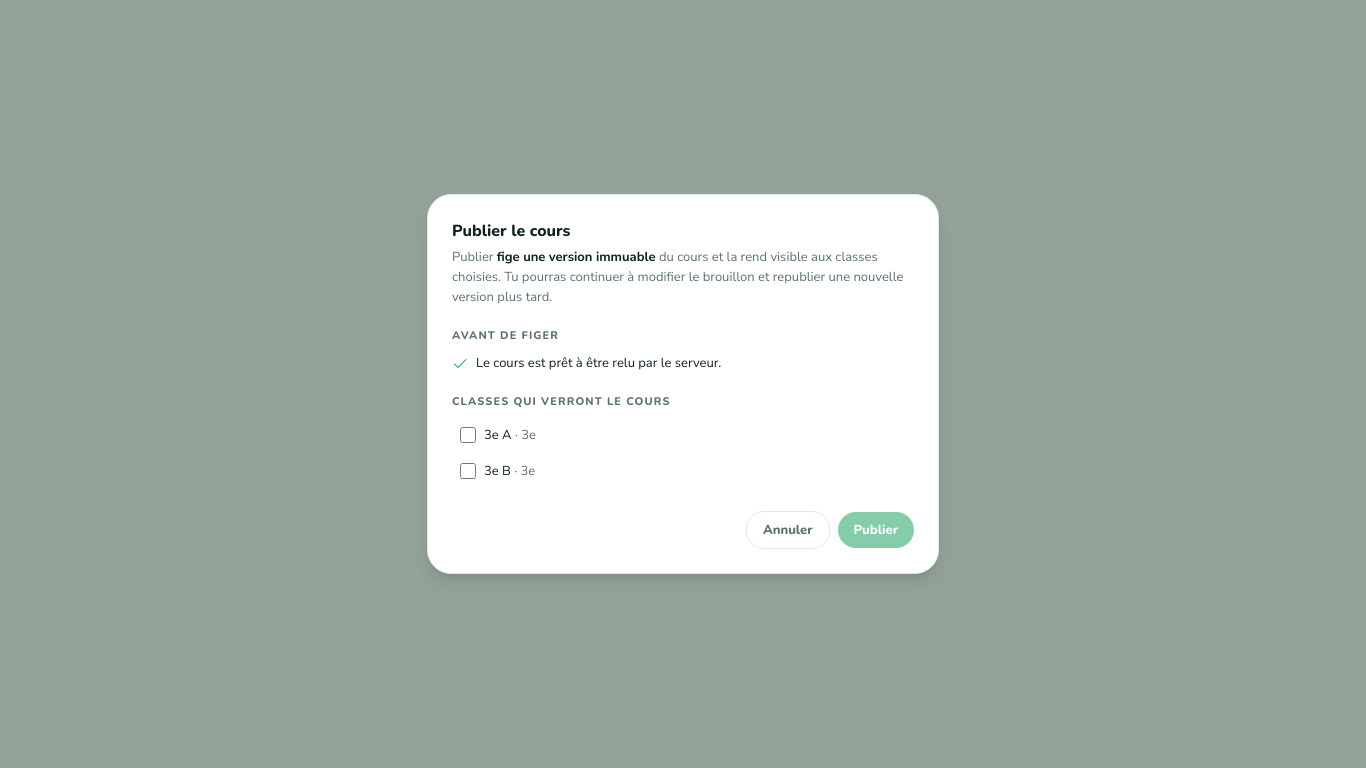
Test: PublierCours › enregistre, définit les portées, publie, puis confirme la version figée
The image size is (1366, 768).
What coordinates should you click on to do the following:
click the checkbox labelled "3e A · 3e"
I would click on:
 (468, 435)
Its box is [460,427,476,443].
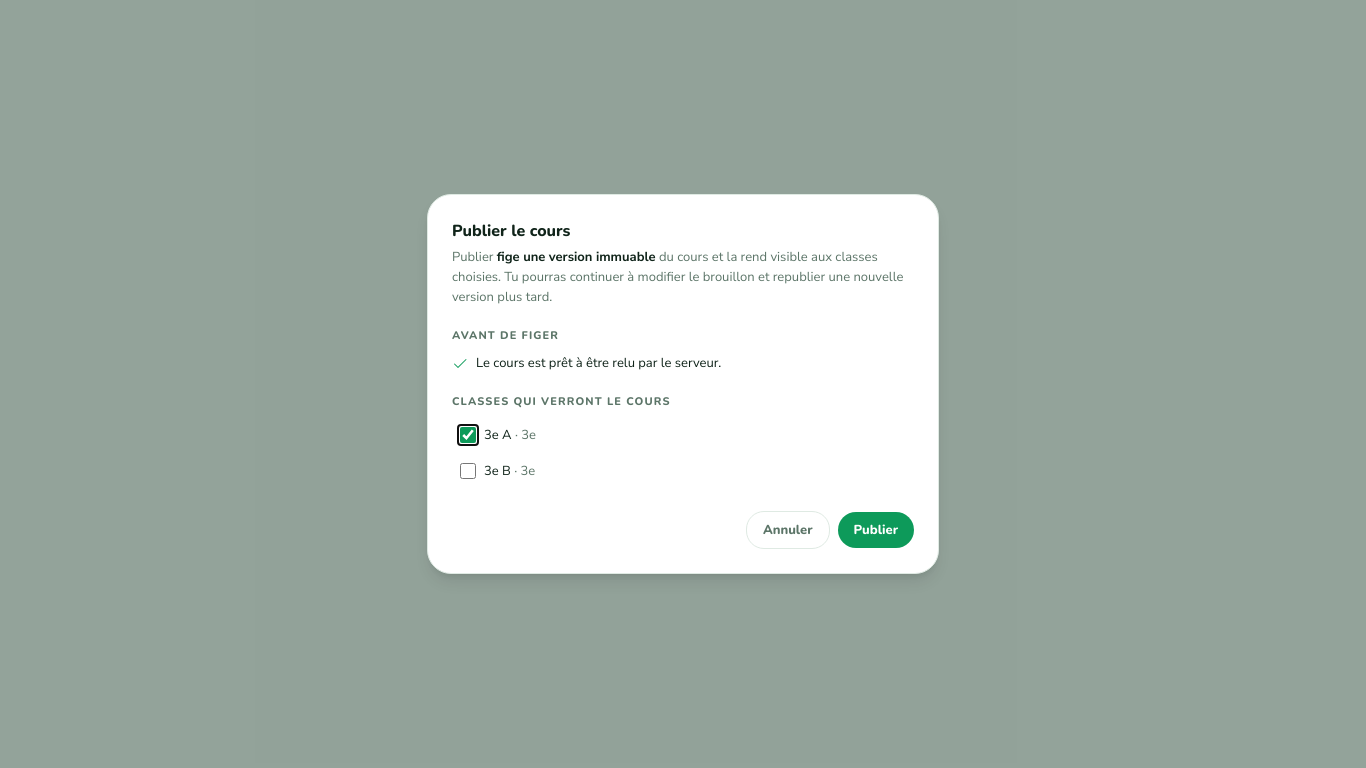
What coordinates should you click on to do the following:
click the button "Publier"
I would click on:
 (876, 530)
Its box is [838,512,914,548].
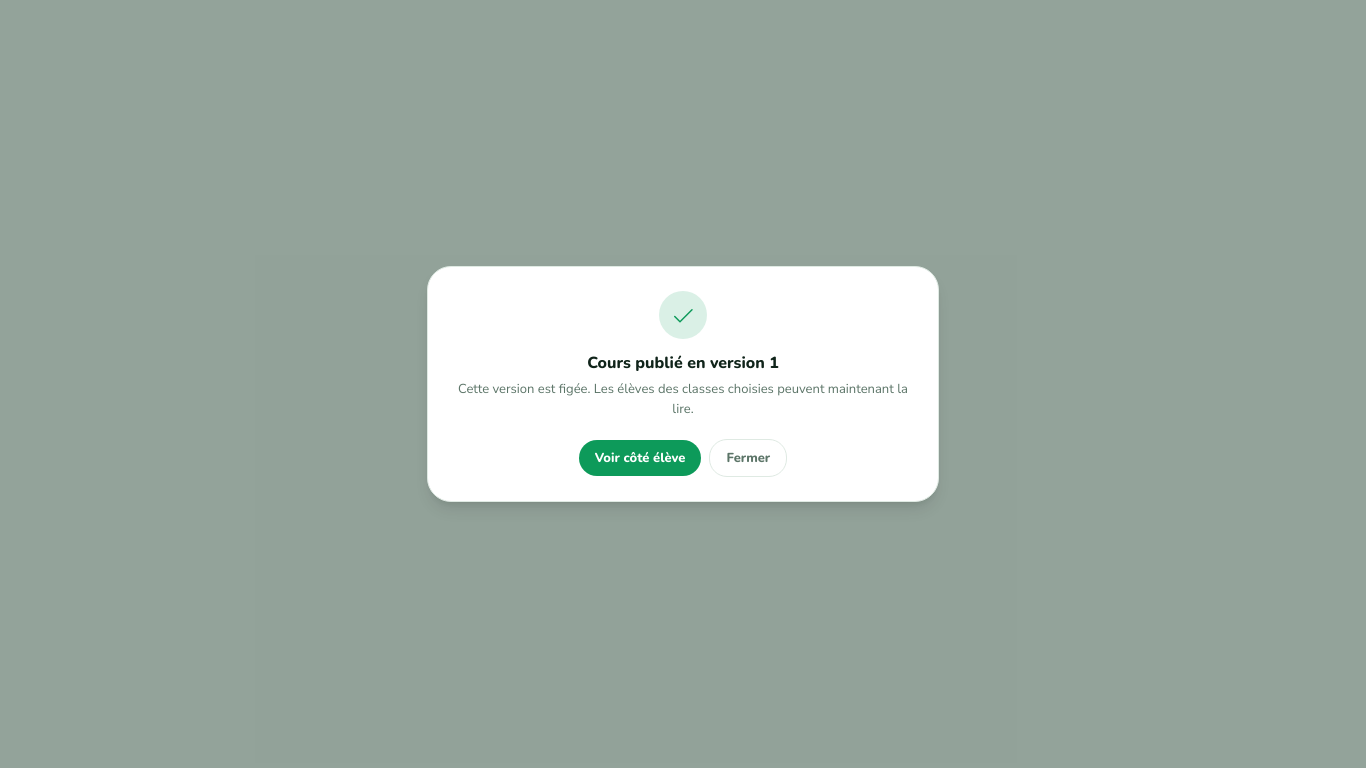
Result: the heading "Cours publié en version 1" is shown at [587,352,779,374]
